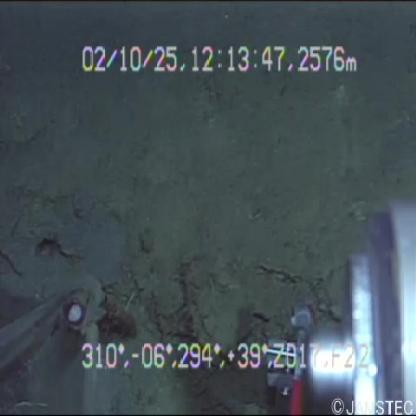Rov: (248, 189, 415, 416)
Rác: (1, 260, 131, 415)
